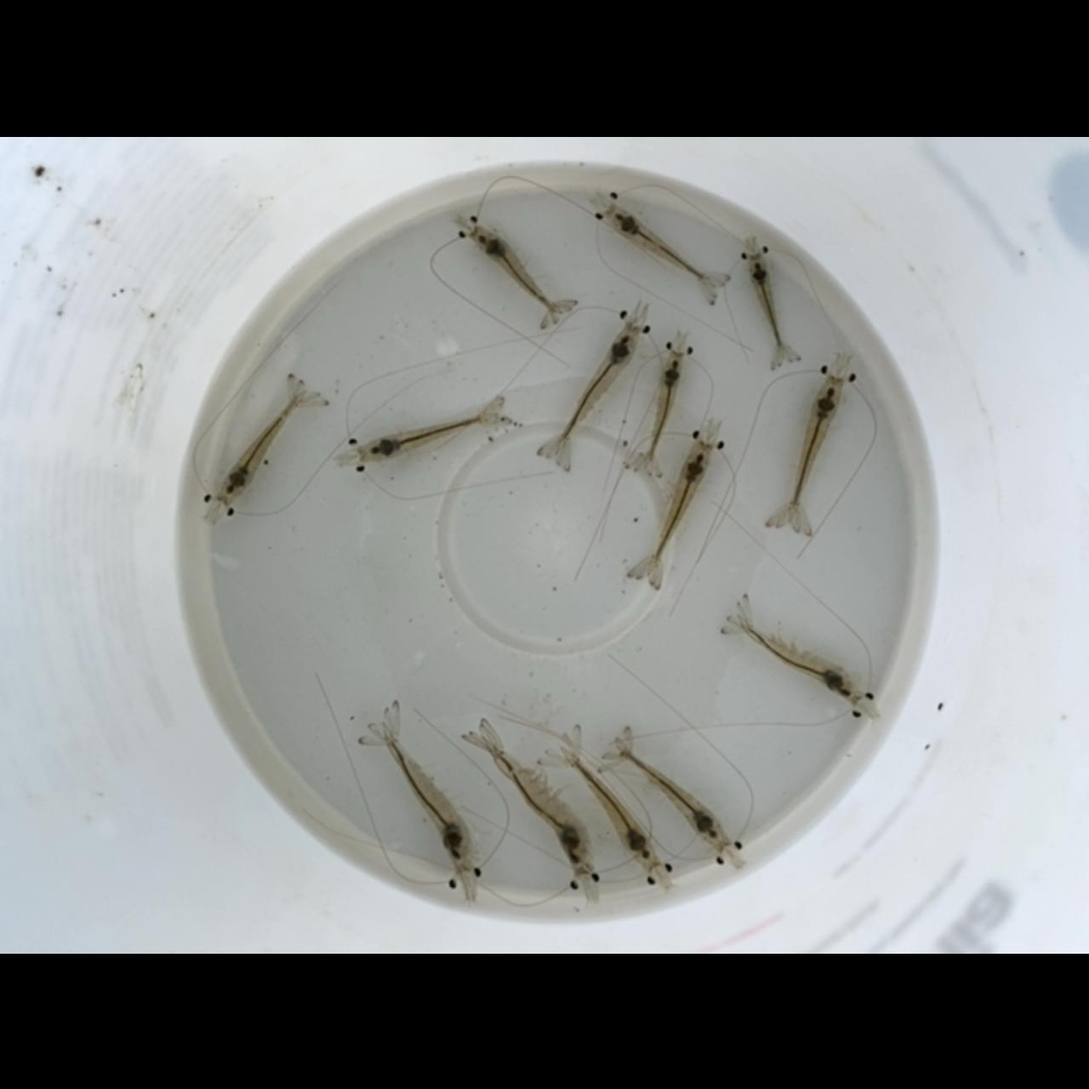top_shrimp: (481, 734, 594, 875), (381, 720, 475, 871), (561, 745, 660, 869), (613, 744, 730, 848), (556, 322, 640, 456), (735, 613, 862, 701), (218, 388, 308, 501), (606, 204, 715, 288), (647, 440, 712, 579), (788, 377, 845, 529), (472, 226, 565, 315), (360, 413, 499, 461), (645, 348, 686, 471), (747, 253, 785, 361)
